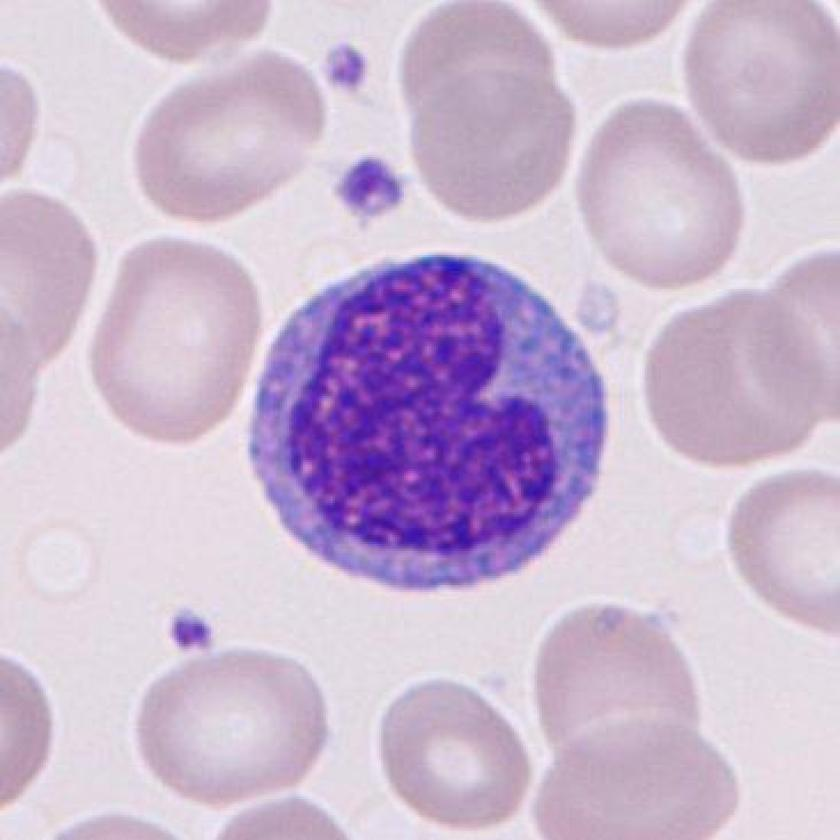monocyte: (229, 243, 635, 614)
